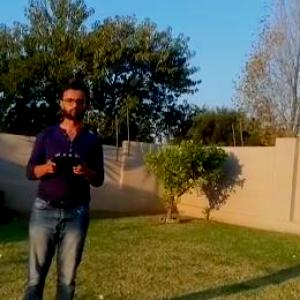follow: (20, 74, 109, 299)
